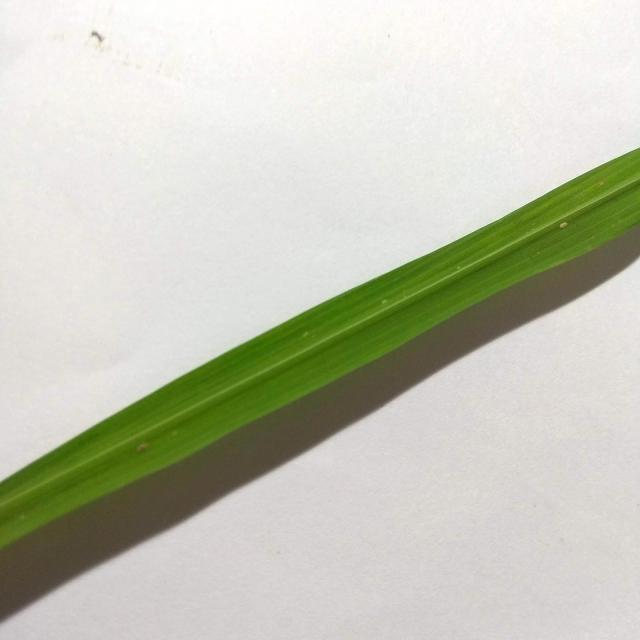healthy: (0, 151, 640, 556)
